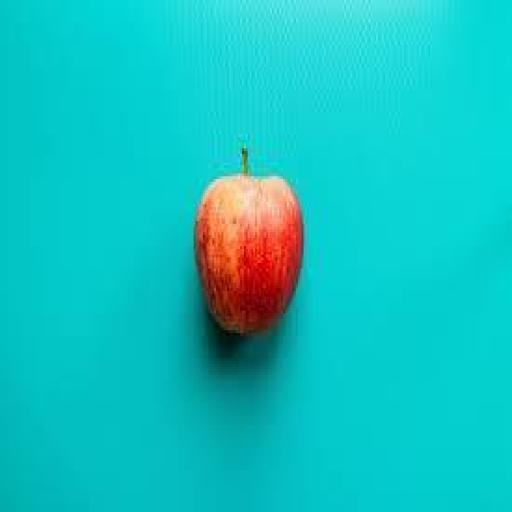apple: (196, 149, 303, 332)
